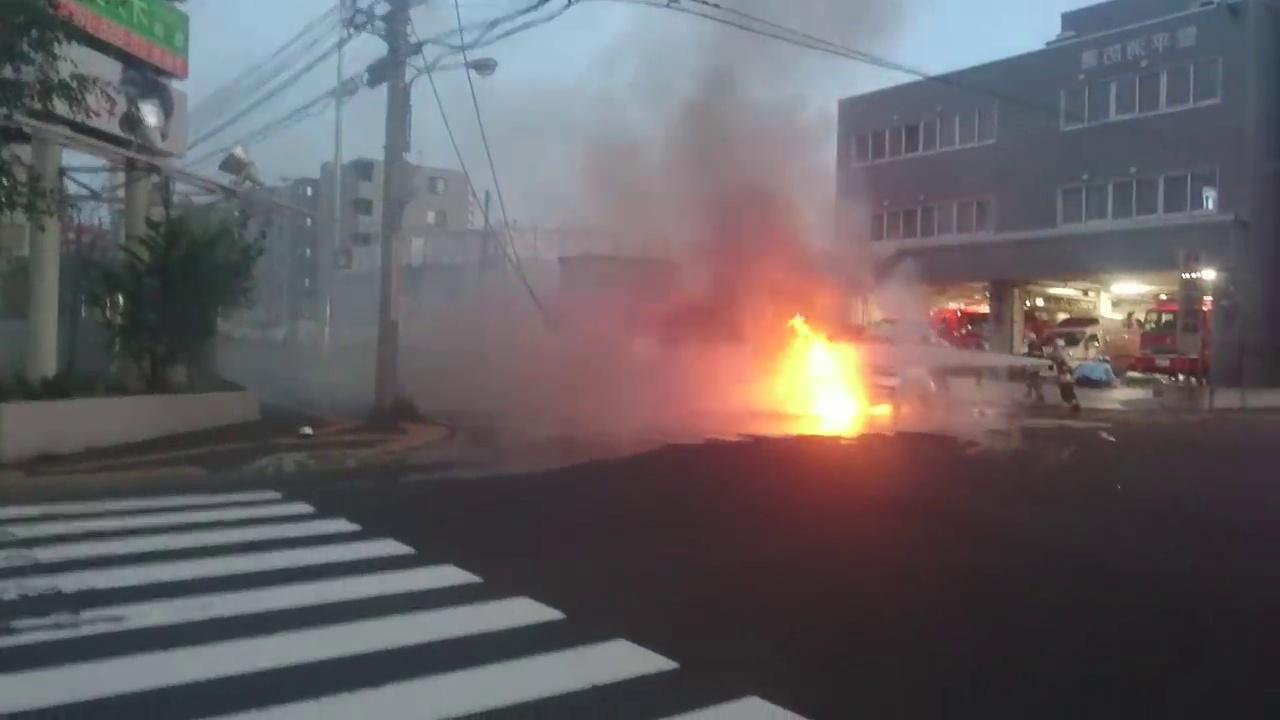Fire: (760, 317, 890, 442)
